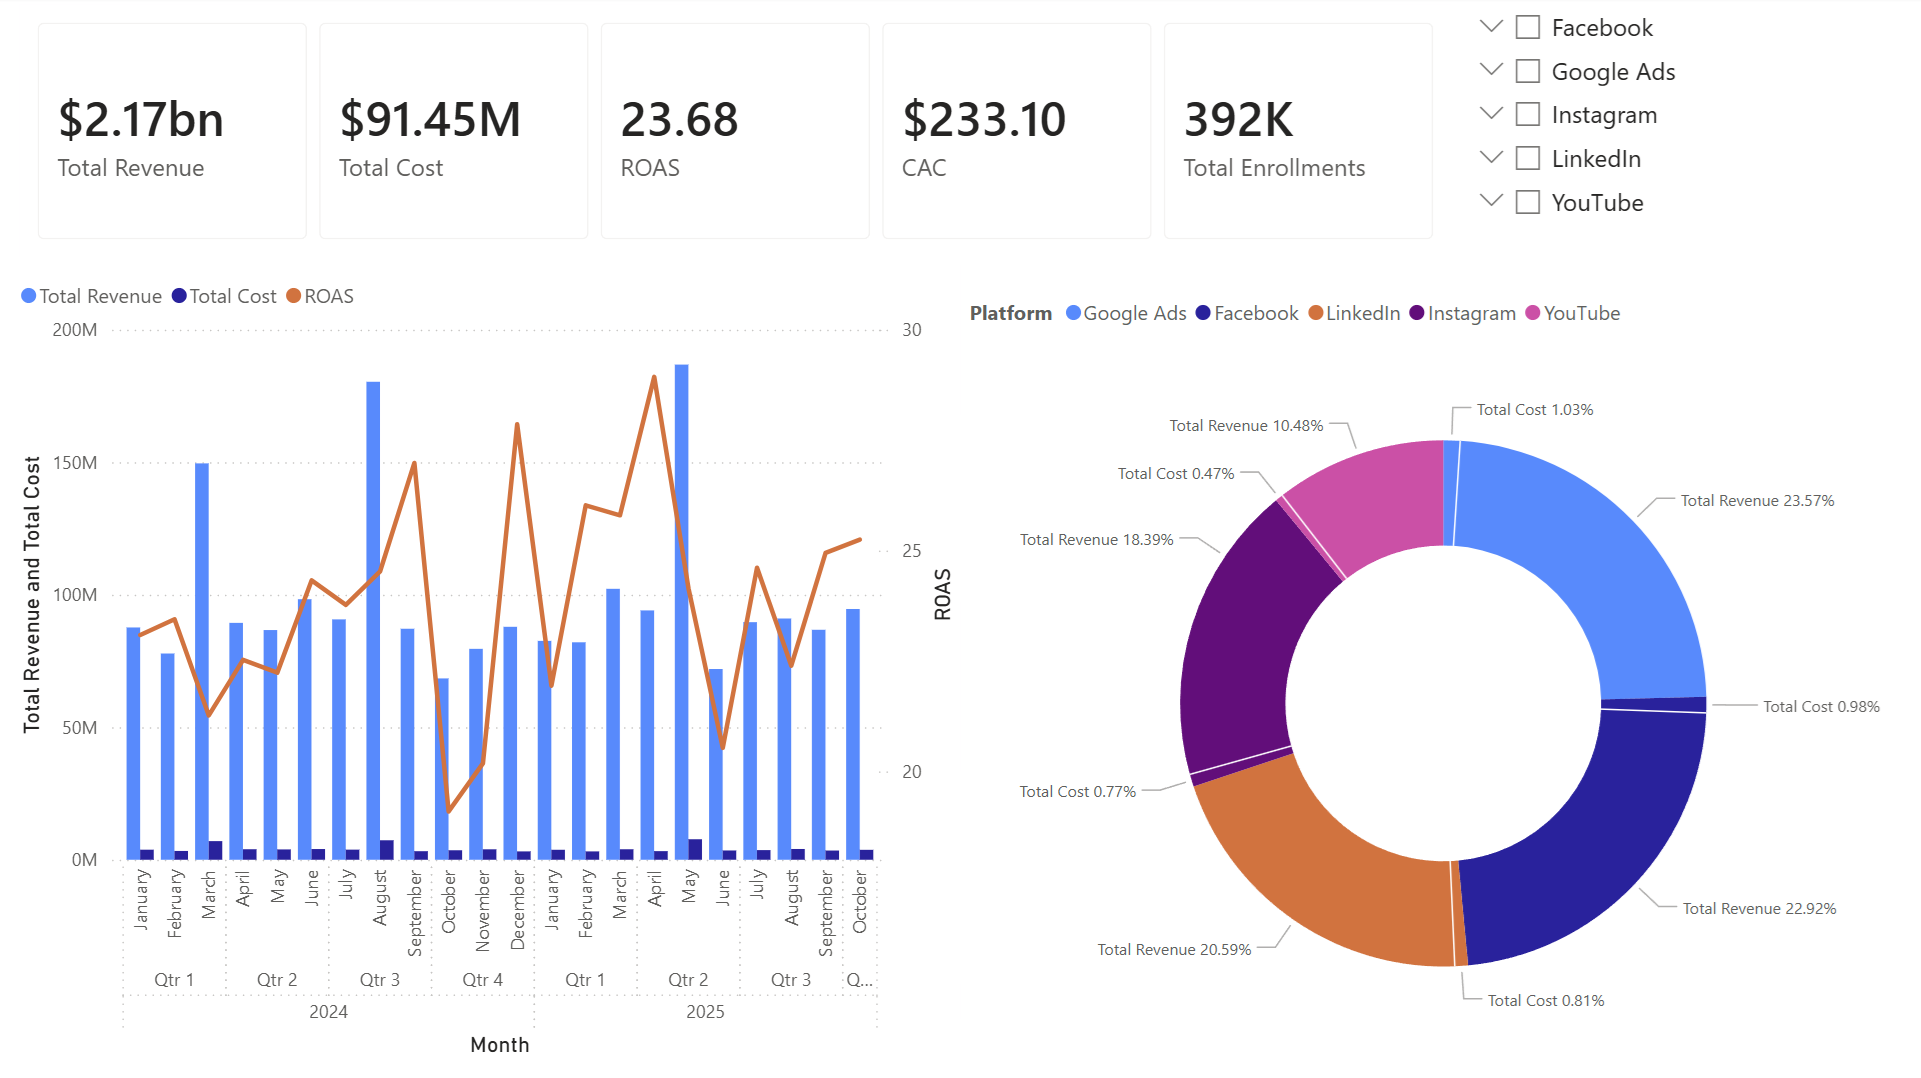

The page's visual inventory and layout, read from the dashboard file:
{"tool":"powerbi","page":{"name":"EXECUTIVE OVERVIEW","canvas":[1280,720],"ordinal":0},"visuals":[{"type":"cardVisual","fields":{"Data":["_AllMeasures.Total Revenue","_AllMeasures.Total Cost","_AllMeasures.ROAS","_AllMeasures.CAC","_AllMeasures.Total Enrollments"]},"box":[10,0,961.8,178],"z":0},{"type":"lineClusteredColumnComboChart","fields":{"Y":["_AllMeasures.Total Revenue","_AllMeasures.Total Cost"],"Category":["public vw_cleanedperformance_advanced.Date.Variation.Date Hierarchy.Year","public vw_cleanedperformance_advanced.Date.Variation.Date Hierarchy.Quarter","public vw_cleanedperformance_advanced.Date.Variation.Date Hierarchy.Month"],"Y2":["_AllMeasures.ROAS"]},"box":[10,178,630.4,531.4],"z":1000},{"type":"donutChart","fields":{"Y":["_AllMeasures.Total Cost","_AllMeasures.Total Revenue"],"Category":["public vw_cleanedperformance_advanced.Platform"]},"box":[640.7,189,639.3,531.2],"z":2000},{"type":"slicer","fields":{"Values":["public vw_cleanedperformance_advanced.Platform","public vw_cleanedperformance_advanced.Region"]},"box":[971.8,0,308.2,178],"z":3000}]}

Visuals, with their boxes in screenshot pixels (x1, y1, x2, y2), scaled from the page's 1280x720 canvas onto the 1921x1078 screenshot:
cardVisual - _AllMeasures.Total Revenue x _AllMeasures.Total Cost: {"left": 15, "top": 0, "right": 1458, "bottom": 267}
lineClusteredColumnComboChart - _AllMeasures.Total Revenue x _AllMeasures.Total Cost: {"left": 15, "top": 267, "right": 961, "bottom": 1062}
donutChart - _AllMeasures.Total Cost x _AllMeasures.Total Revenue: {"left": 962, "top": 283, "right": 1920, "bottom": 1077}
slicer - public vw_cleanedperformance_advanced.Platform x public vw_cleanedperformance_advanced.Region: {"left": 1458, "top": 0, "right": 1920, "bottom": 267}
